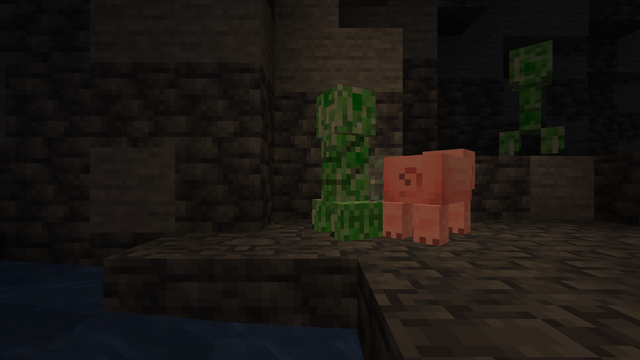cochons: (390, 150, 505, 246)
creepers: (320, 71, 380, 241), (505, 29, 579, 155)
